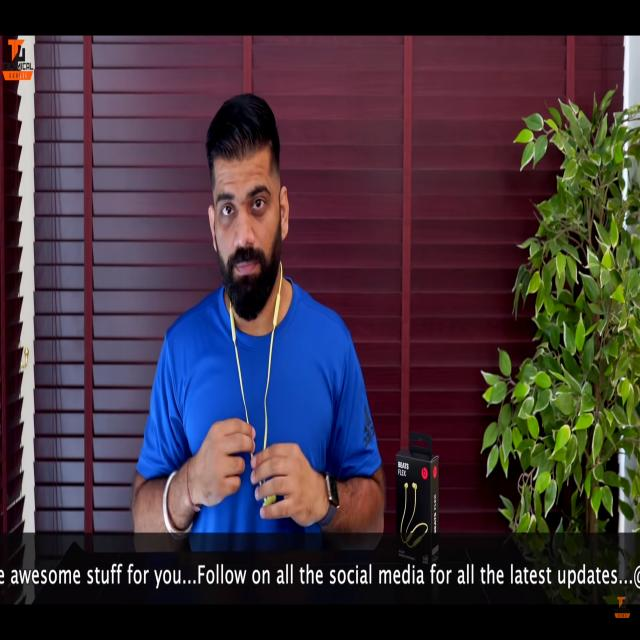Neckband: (229, 258, 283, 508)
